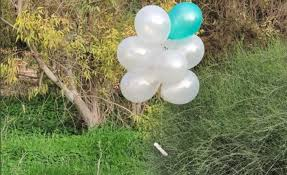Balloon: (119, 67, 159, 101), (160, 70, 199, 104), (135, 5, 168, 45), (168, 2, 202, 38), (117, 37, 156, 67), (151, 50, 186, 82)
